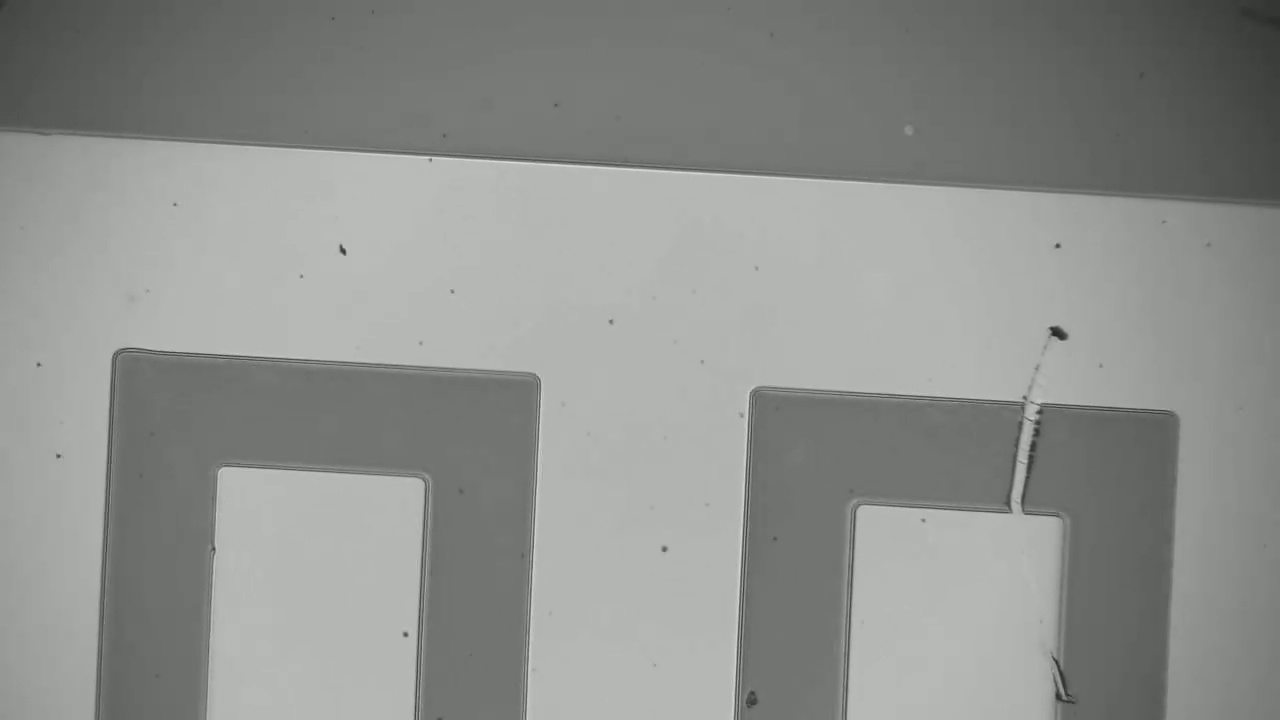Short_circuit: (978, 382, 1061, 535)
